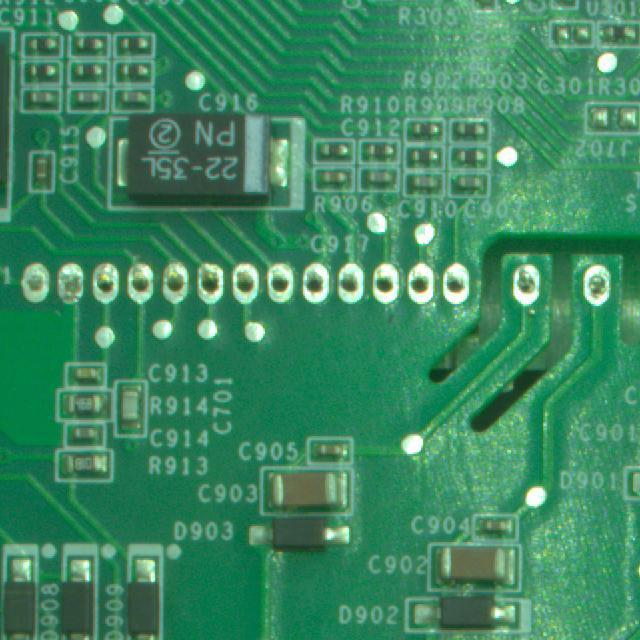Insufficient solder: (571, 257, 619, 314), (439, 261, 482, 321), (227, 255, 267, 316), (404, 261, 441, 324), (297, 258, 333, 319), (371, 261, 407, 319), (191, 264, 230, 316), (505, 266, 545, 316), (157, 261, 193, 312), (121, 260, 158, 309), (89, 258, 122, 312), (338, 260, 367, 318), (268, 258, 295, 320), (14, 258, 51, 301), (59, 254, 86, 312)
